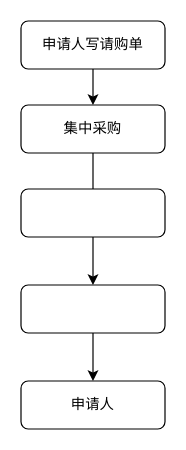
This 186x450 diagram has some shape labels left out. The box of each missing label's shape, as (x1, y1, x2, y2) in pixels:
仓库收发: (20, 284, 165, 333)
供应商按收货地址打包发货: (20, 188, 165, 237)
